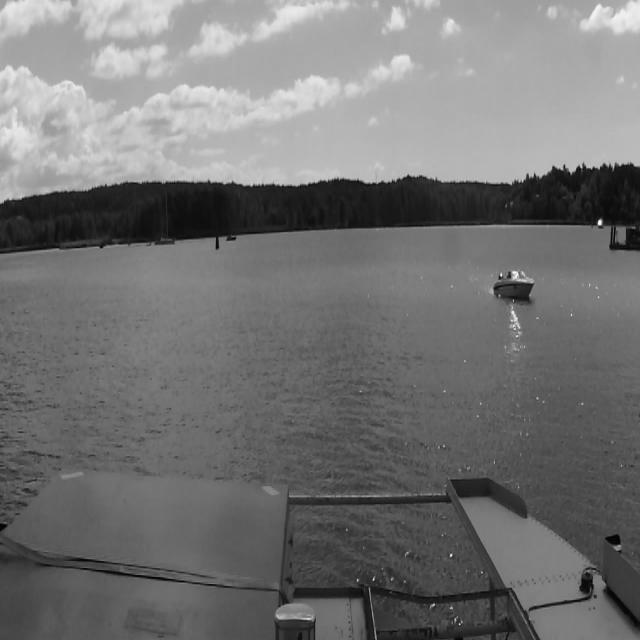buoy: (215, 232, 219, 250)
ship: (493, 268, 535, 302), (155, 190, 176, 246), (226, 234, 236, 242), (598, 217, 604, 228)
